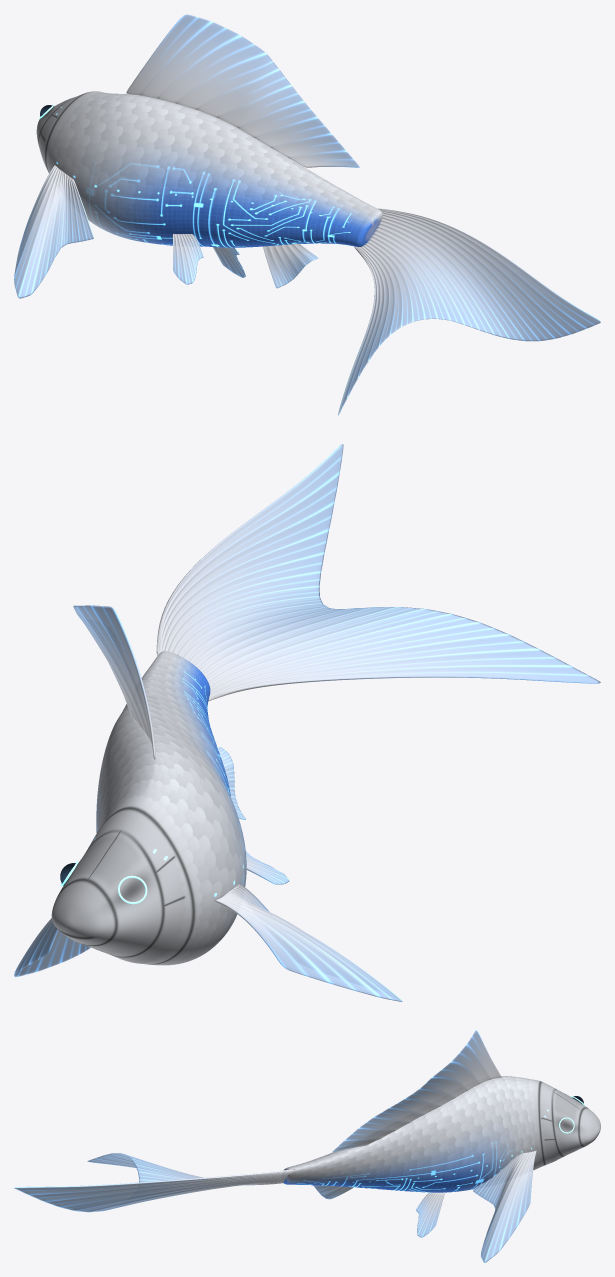
File: cyberfish_posed.glb
3 renders of one model, top to bottom at view 1: azimuth 30°, elevation 25°; view 2: azimuth 150°, elevation 25°; view 3: azimuth 270°, elevation 25°, orthographic. The views are drawn at different scales.
Visible parts, largest first — view 1: CF_Body, CF_FinTail, CF_FinDorsal, CF_FinPectoral.R, CF_FinAnal, CF_FinPelvic.R, CF_FinPelvic.L; view 2: CF_FinTail, CF_Body, CF_FinPectoral.R, CF_FinDorsal, CF_FinPectoral.L; view 3: CF_Body, CF_FinTail, CF_FinDorsal, CF_FinPectoral.L, CF_FinPelvic.L, CF_FinAnal.
Boxes of the visible parts, x1,y1,x2,y2 form: CF_Body: (36,91,382,247); CF_FinTail: (338,208,600,415); CF_FinDorsal: (126,14,359,167); CF_FinPectoral.R: (14,165,93,298); CF_FinAnal: (263,243,318,288); CF_FinPelvic.R: (172,234,203,284); CF_FinPelvic.L: (213,247,245,277); CF_FinTail: (156,444,600,701); CF_Body: (51,651,246,965); CF_FinPectoral.R: (215,884,402,1001); CF_FinDorsal: (73,605,155,759); CF_FinPectoral.L: (14,918,90,977); CF_Body: (283,1076,600,1192); CF_FinTail: (14,1153,295,1212); CF_FinDorsal: (332,1030,501,1152); CF_FinPectoral.L: (473,1150,536,1262); CF_FinPelvic.L: (416,1192,444,1237); CF_FinAnal: (313,1185,353,1199).
Size of the model in its own units: 3.4 by 2.69 by 6.83.
5 materials, 3 textured.
